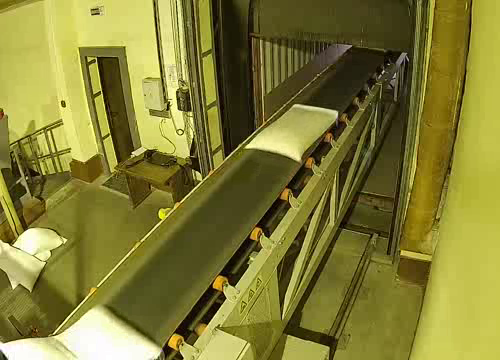bag: (0, 302, 168, 360), (244, 101, 339, 164), (353, 44, 389, 55)
